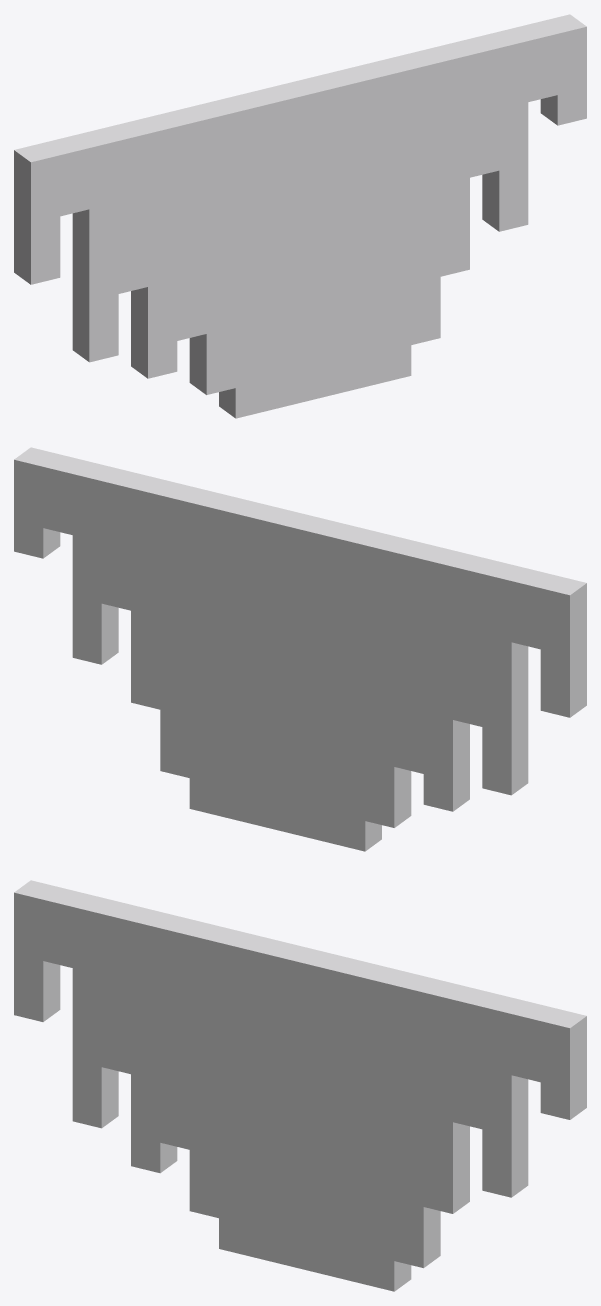
Rendered from Medieval Assets-149-Banner - Bottom.obj.
3 renders of one model, top to bottom at view 1: azimuth 30°, elevation 25°; view 2: azimuth 150°, elevation 25°; view 3: azimuth 330°, elevation 25°, orthographic.
Visible parts, largest first — view 1: Banner - Bottom; view 2: Banner - Bottom; view 3: Banner - Bottom.
Part boxes in pixels (<box>): Banner - Bottom: <box>14,14,586,418</box>; Banner - Bottom: <box>14,447,586,851</box>; Banner - Bottom: <box>14,880,586,1291</box>.
Size of the model in its own units: 1.9 by 1 by 0.1.
1 material, 1 textured.
